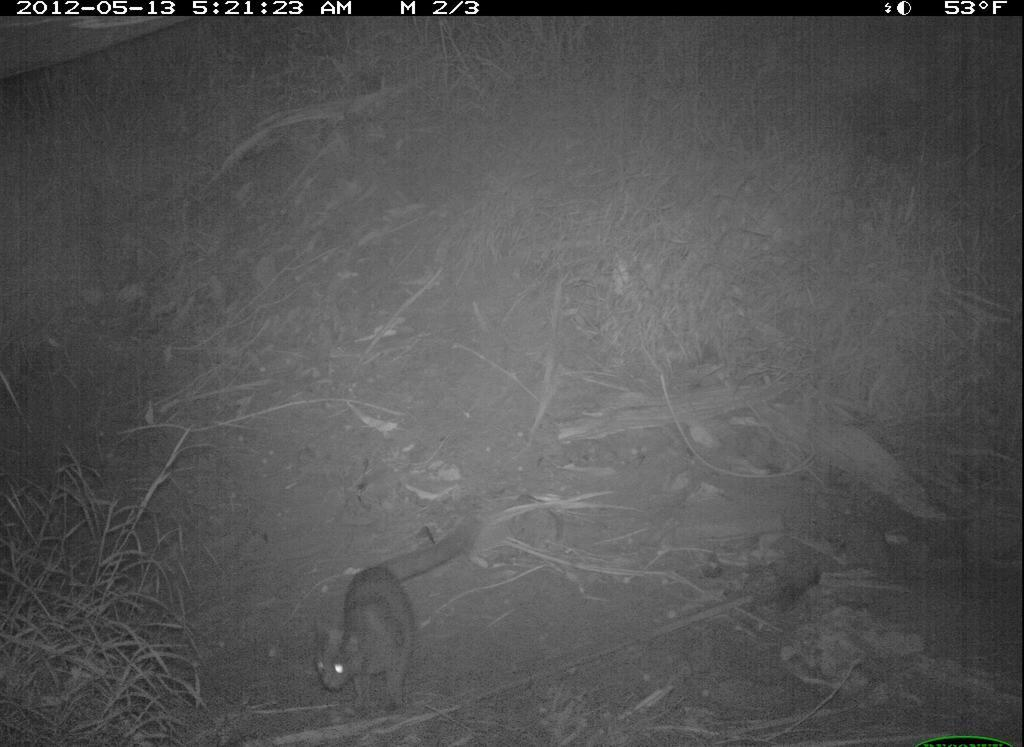cat: (306, 513, 489, 720)
